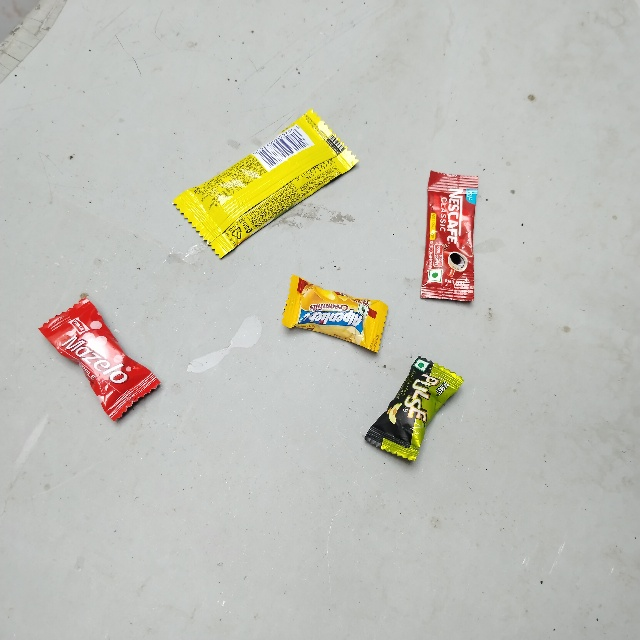Alpenlibe Creamfills: (295, 273, 395, 331)
Mazelo: (41, 328, 104, 451)
Nescafe Coffee: (430, 171, 483, 304)
Orbit: (173, 200, 347, 283)
Pulse: (420, 348, 474, 456)
